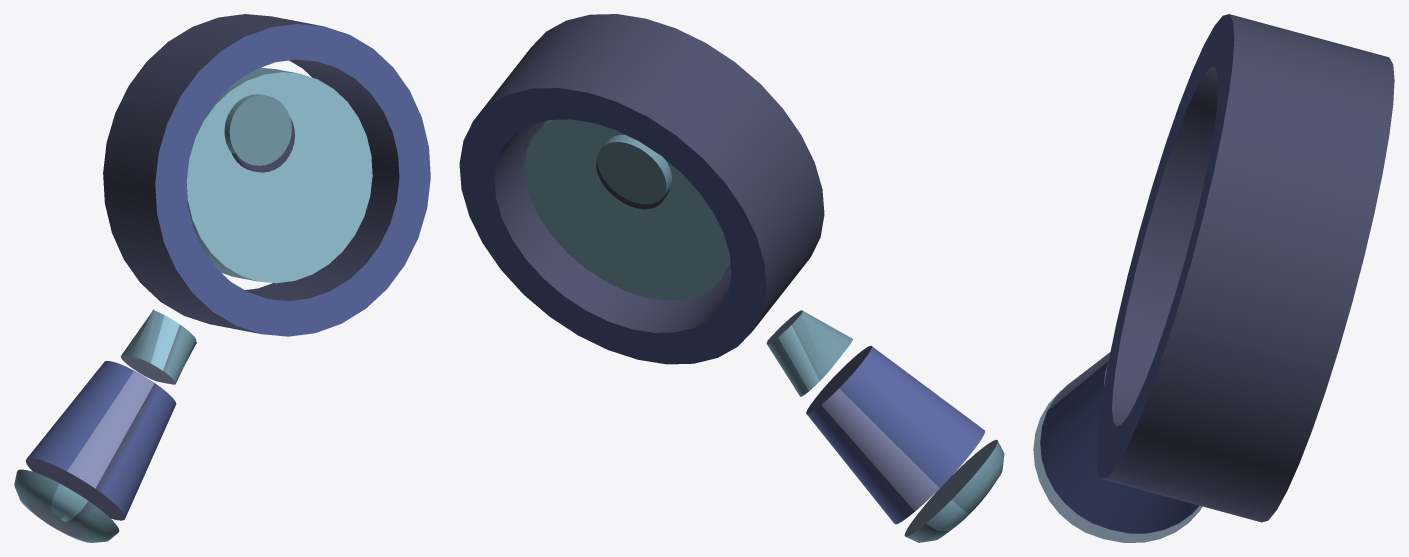
The model's file is tool_zoom.glb.
3 renders of one model, left to right at view 1: azimuth 30°, elevation 25°; view 2: azimuth 150°, elevation 25°; view 3: azimuth 270°, elevation 25°, orthographic. The views are drawn at different scales.
Visible parts, largest first — view 1: Zoom; view 2: Zoom; view 3: Zoom.
Part boxes in pixels (x1,y1,x2,y2): Zoom: (14, 14, 430, 542); Zoom: (459, 14, 1004, 542); Zoom: (1033, 14, 1394, 542).
Bounding box in the file's own units: 4.34 × 4.34 × 2.13.
